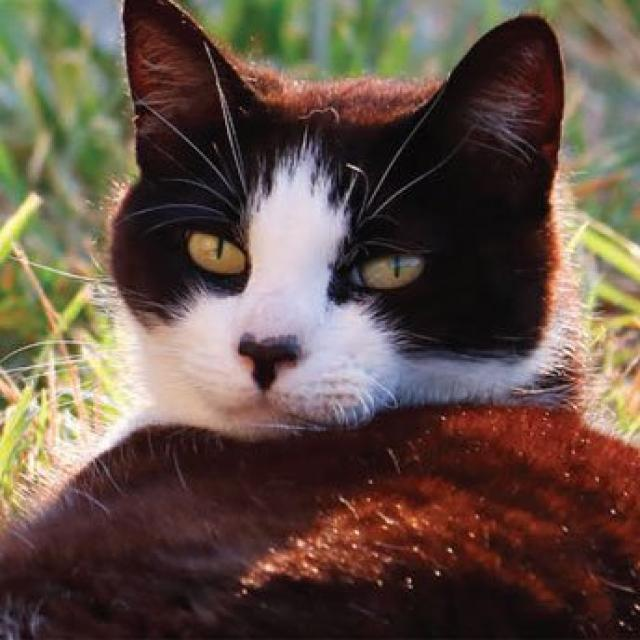cat: (118, 82, 559, 461)
